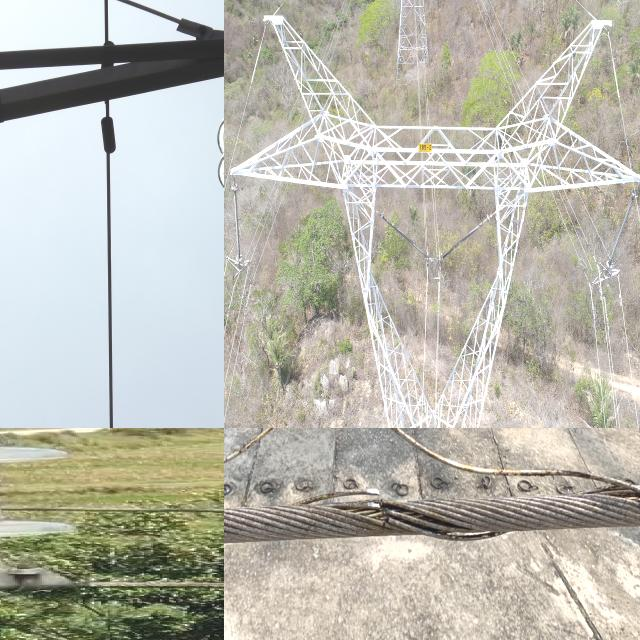杆塔: (229, 14, 640, 428), (372, 0, 454, 95)
正常绝缘子: (0, 428, 112, 589), (605, 190, 638, 274), (439, 213, 491, 263), (380, 211, 431, 261), (231, 178, 245, 268)
电缆破损: (224, 428, 640, 564)
